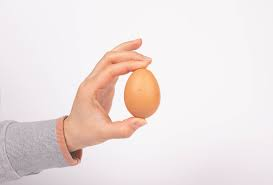egg: (125, 67, 160, 117)
